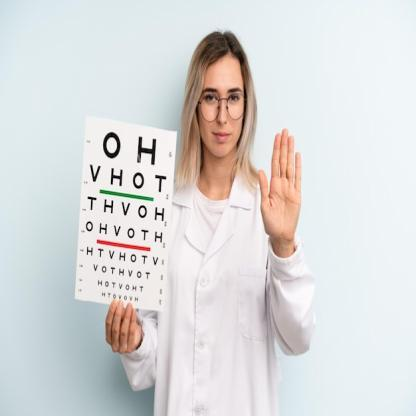stop: (257, 124, 306, 244)
